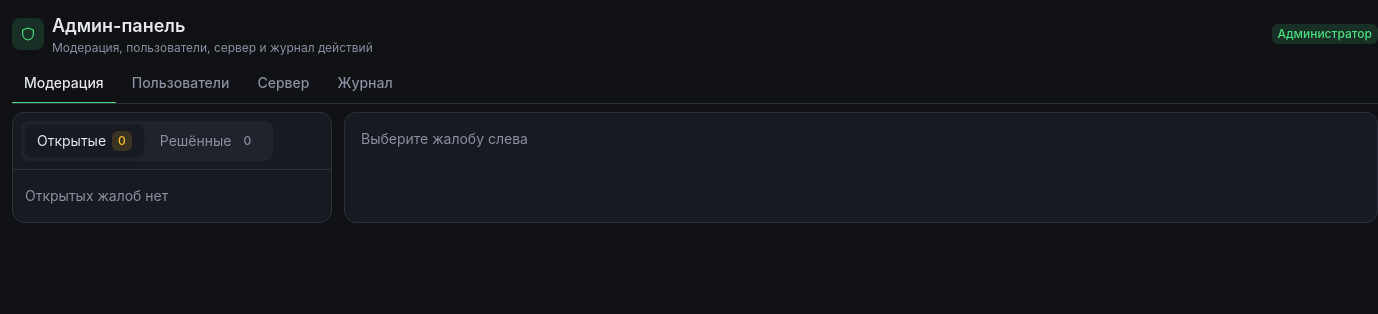
Test: journal tab › shows when, who, what and over whom
Click the tab "Журнал": coordinates (365, 84) [325,64,405,104]
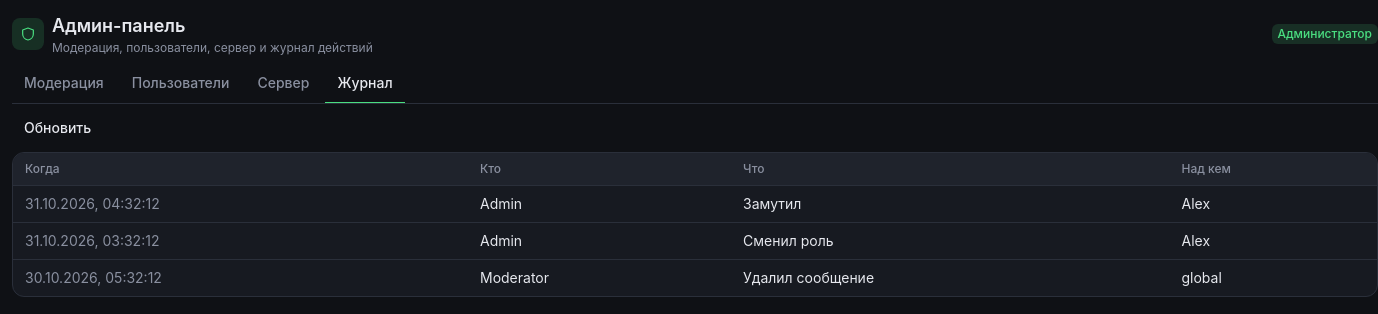
Now the column heading "Когда" is shown, box [13,153,468,186]
Now the column heading "Кто" is shown, box [468,153,731,186]
Now the column heading "Что" is shown, box [731,153,1170,186]
